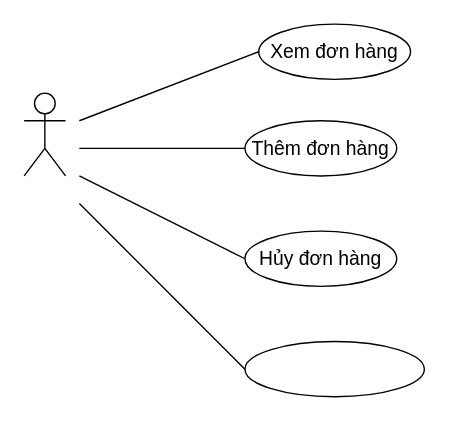
This 449x421 diagram has some shape labels left out. The shapes that lost their labels are listed below. From the top down, each one's centre as x and y in pixels, then its label:
At (x=44, y=134): "User".
At (x=334, y=368): "Lịch sử đơn hàng".
